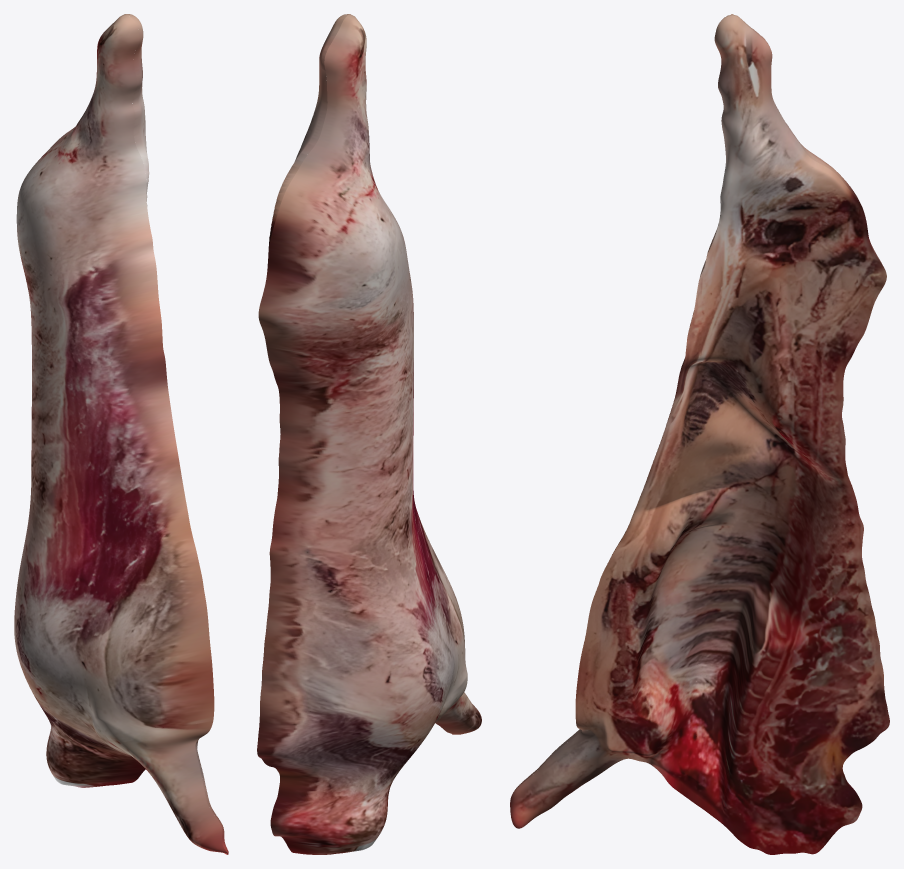
The model's file is demi_carcasse_boeuf_v25.glb.
3 renders of one model, left to right at view 1: azimuth 30°, elevation 25°; view 2: azimuth 150°, elevation 25°; view 3: azimuth 270°, elevation 25°, orthographic. The views are drawn at different scales.
Visible parts, largest first — view 1: face_exterieure, face_de_fente; view 2: face_exterieure, face_de_fente; view 3: face_de_fente, face_exterieure.
Part boxes in pixels (x1,y1,x2,y2): face_exterieure: (14, 14, 228, 854); face_de_fente: (126, 14, 228, 853); face_exterieure: (257, 14, 481, 854); face_de_fente: (268, 14, 452, 734); face_de_fente: (510, 15, 889, 854); face_exterieure: (513, 14, 882, 792).
Size of the model in its own units: 0.4164 by 2.5 by 1.03.
2 materials, 2 textured.
